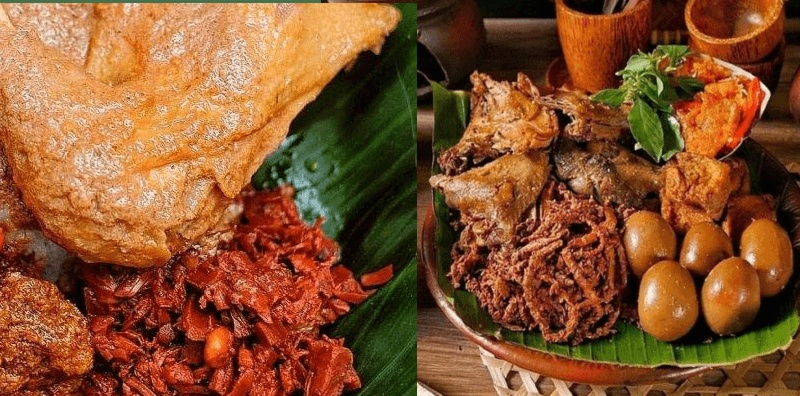gudeg: (430, 71, 800, 342)
